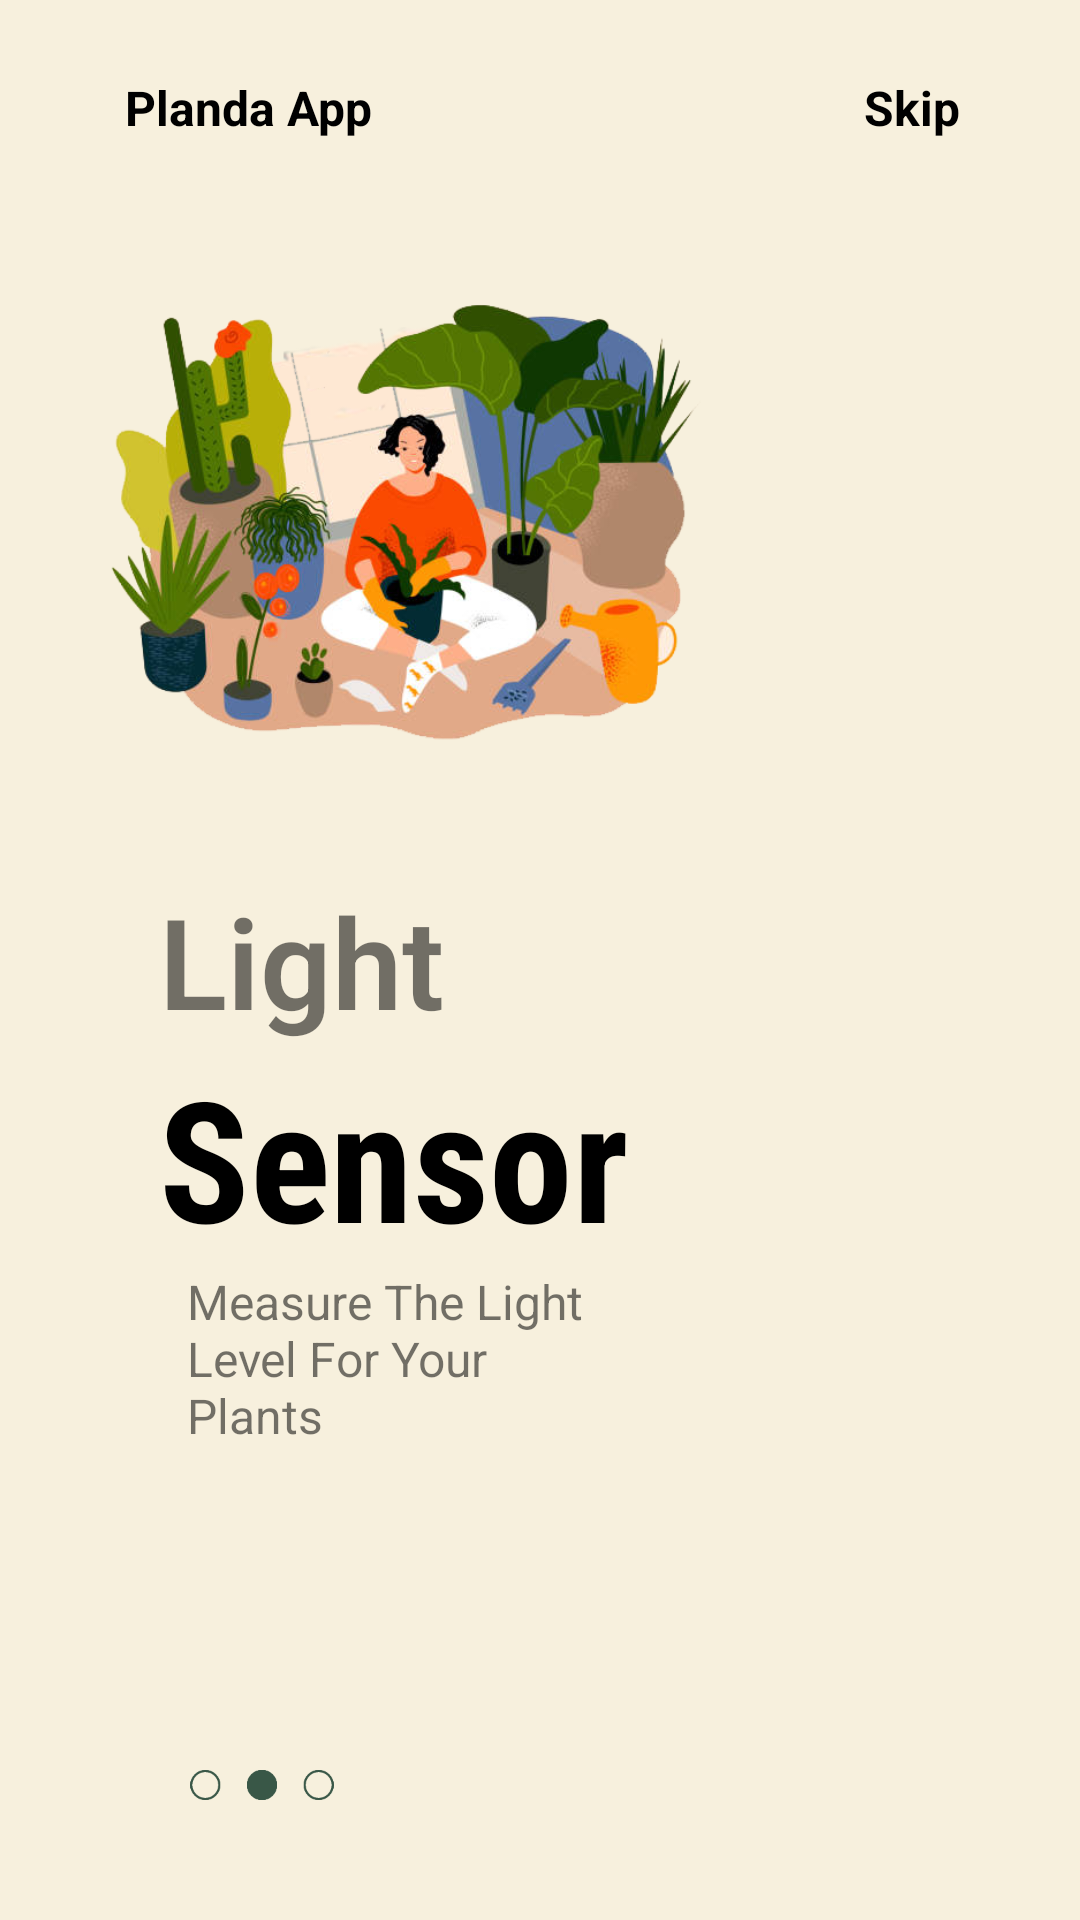

Locate icon controls on the screen. Image size 1080×1920, boxes as (x1, y1, x2, y2).
tab: (190, 1770, 334, 1800)
